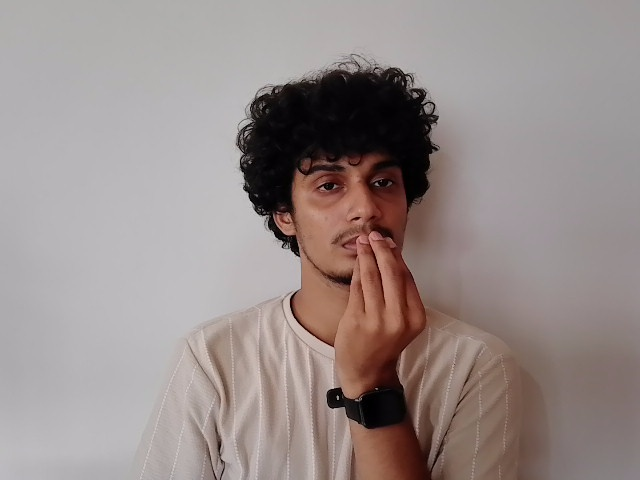eat: (270, 149, 430, 370)
